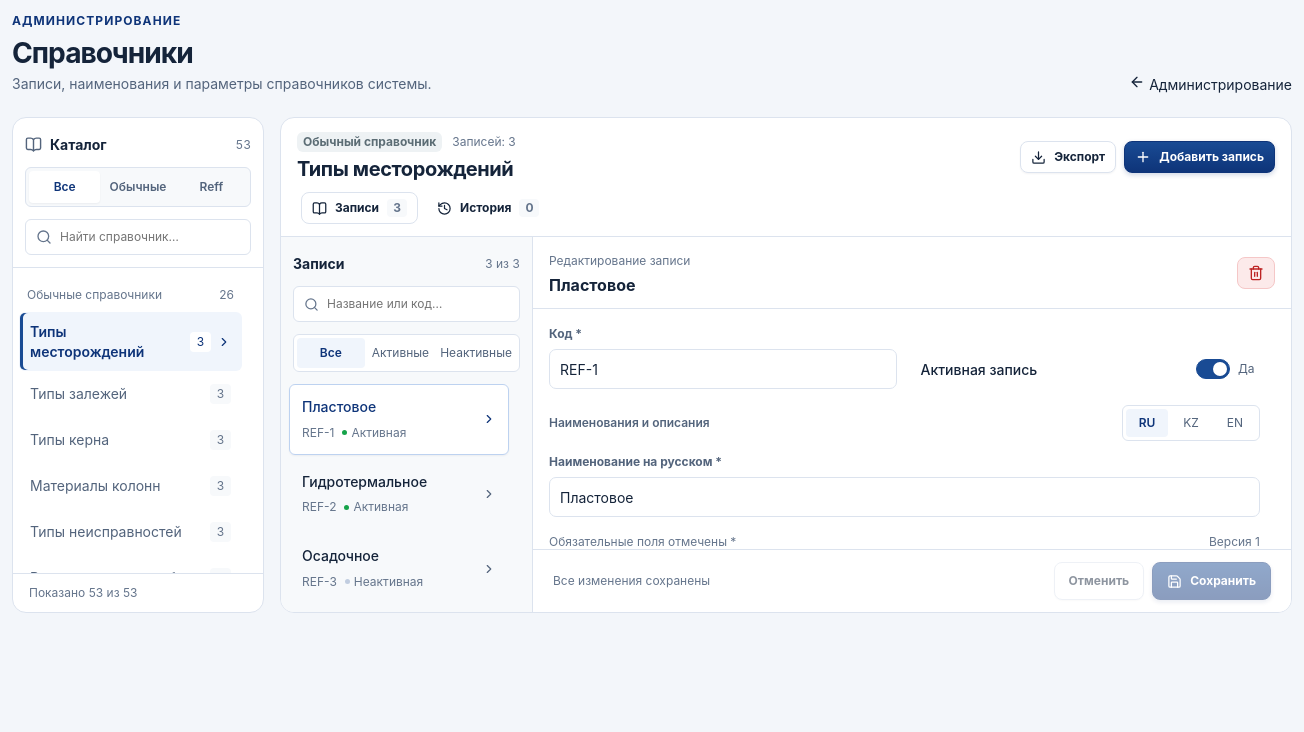
Scenario: ReferenceDataPage workbench › filters visible records by status and search, then opens a record without a select
Click the radio button labelled "Неактивные". click: (476, 353)
box: [440,345,512,360]
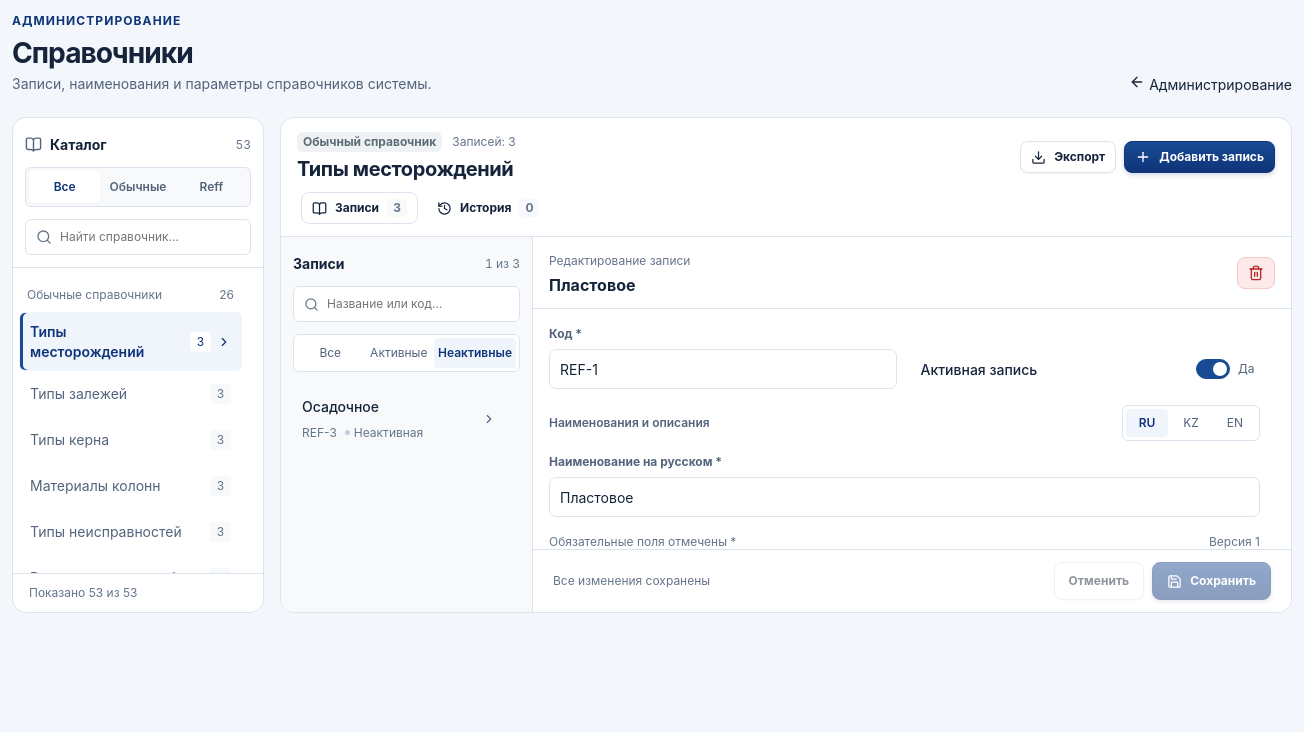
Click the button "Осадочное REF-3 Неактивная". click: (399, 419)
box: [289,384,509,455]
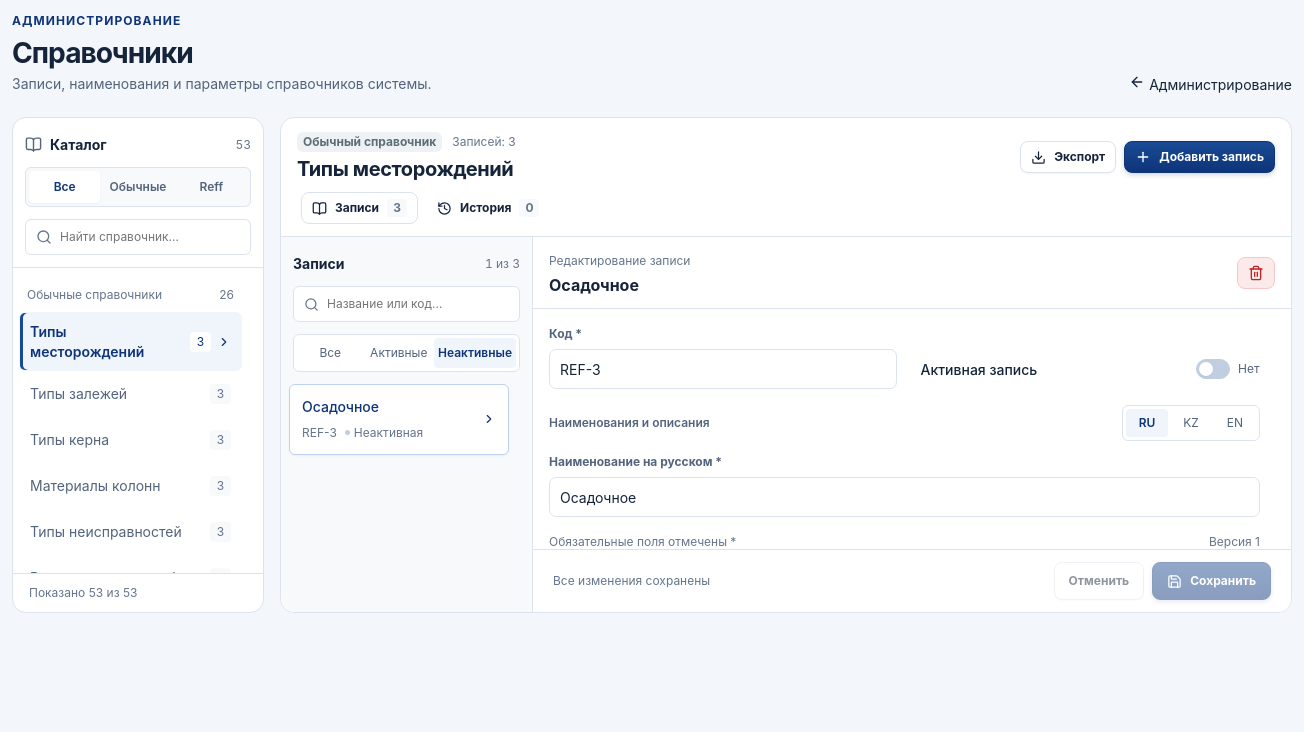
Expected: the field labelled "Наименование на русском *" holds "Осадочное", [549,478,1260,518]
Type "нет такого значения" into the field named "Поиск записи". click: (418, 304)
box: [327,287,509,321]
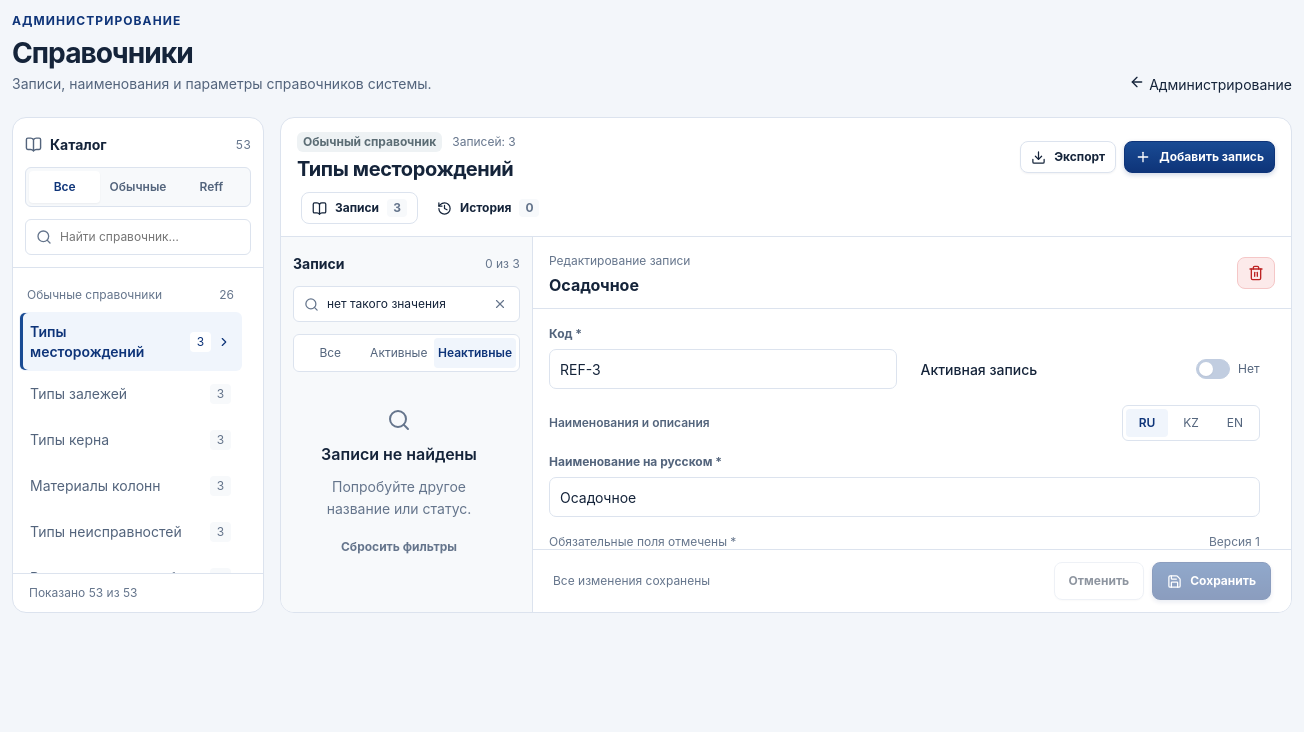
Expected: the field labelled "Наименование на русском *" holds "Осадочное", [549,478,1260,518]
Expected: the text "Записи не найдены" is shown, [321,442,477,466]
